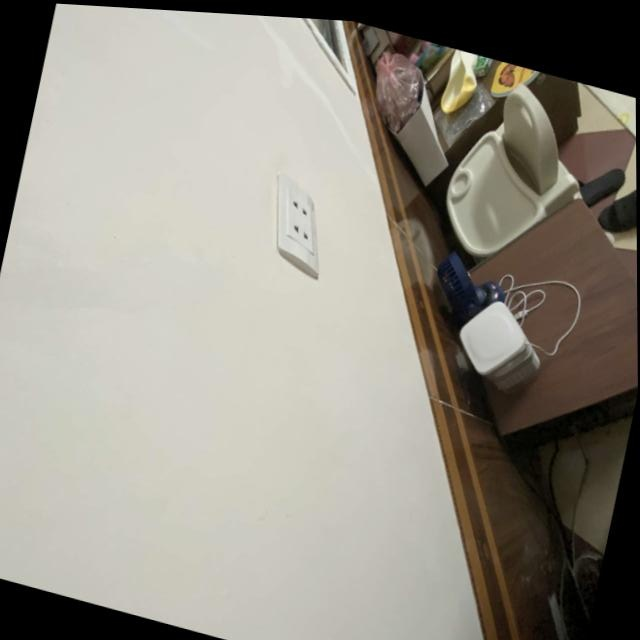outlet: (256, 171, 337, 283)
